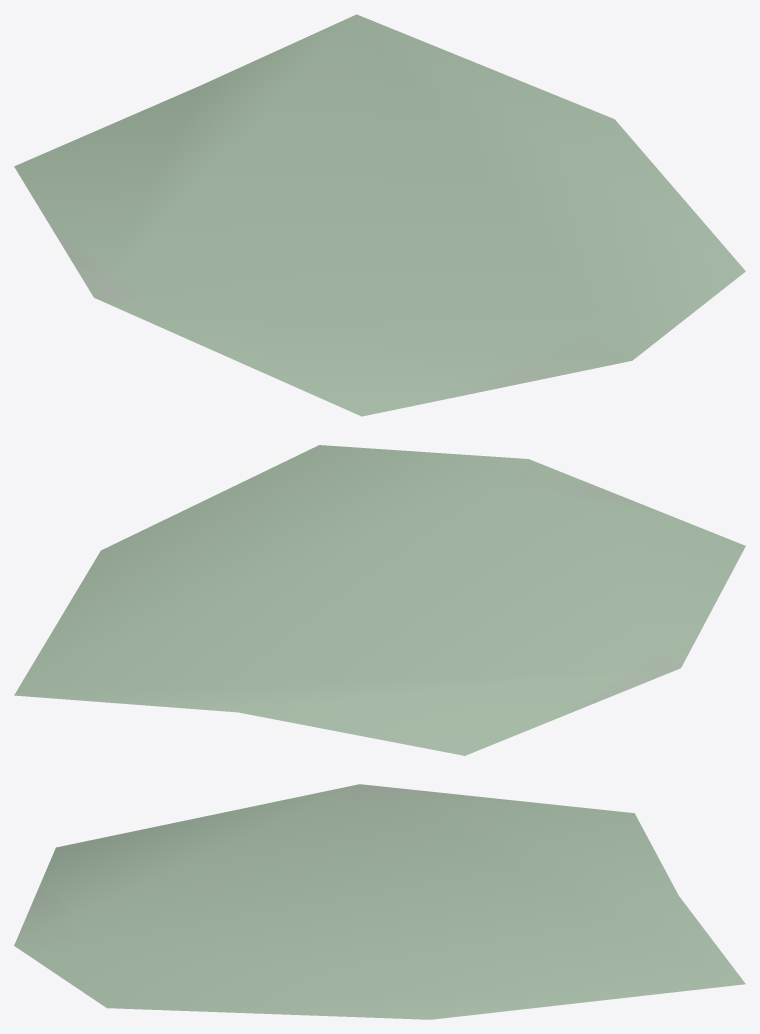
Rendered from TROLLHOLE02_HOLECAP03.fbx.
The picture shows the model from 3 angles, top to bottom: view 1: azimuth 30°, elevation 25°; view 2: azimuth 150°, elevation 25°; view 3: azimuth 270°, elevation 25°; orthographic projection. The views are drawn at different scales.
Parts seen in each view (by area): view 1: TROLLHOLE02_HOLECAP03; view 2: TROLLHOLE02_HOLECAP03; view 3: TROLLHOLE02_HOLECAP03.
Boxes of the visible parts, x1,y1,x2,y2 form: TROLLHOLE02_HOLECAP03: (14,14,745,416); TROLLHOLE02_HOLECAP03: (14,445,745,755); TROLLHOLE02_HOLECAP03: (14,784,745,1019).
Bounding box in the file's own units: 22559 × 1357 × 28157.
Materials: 1 (1 with a texture image).
